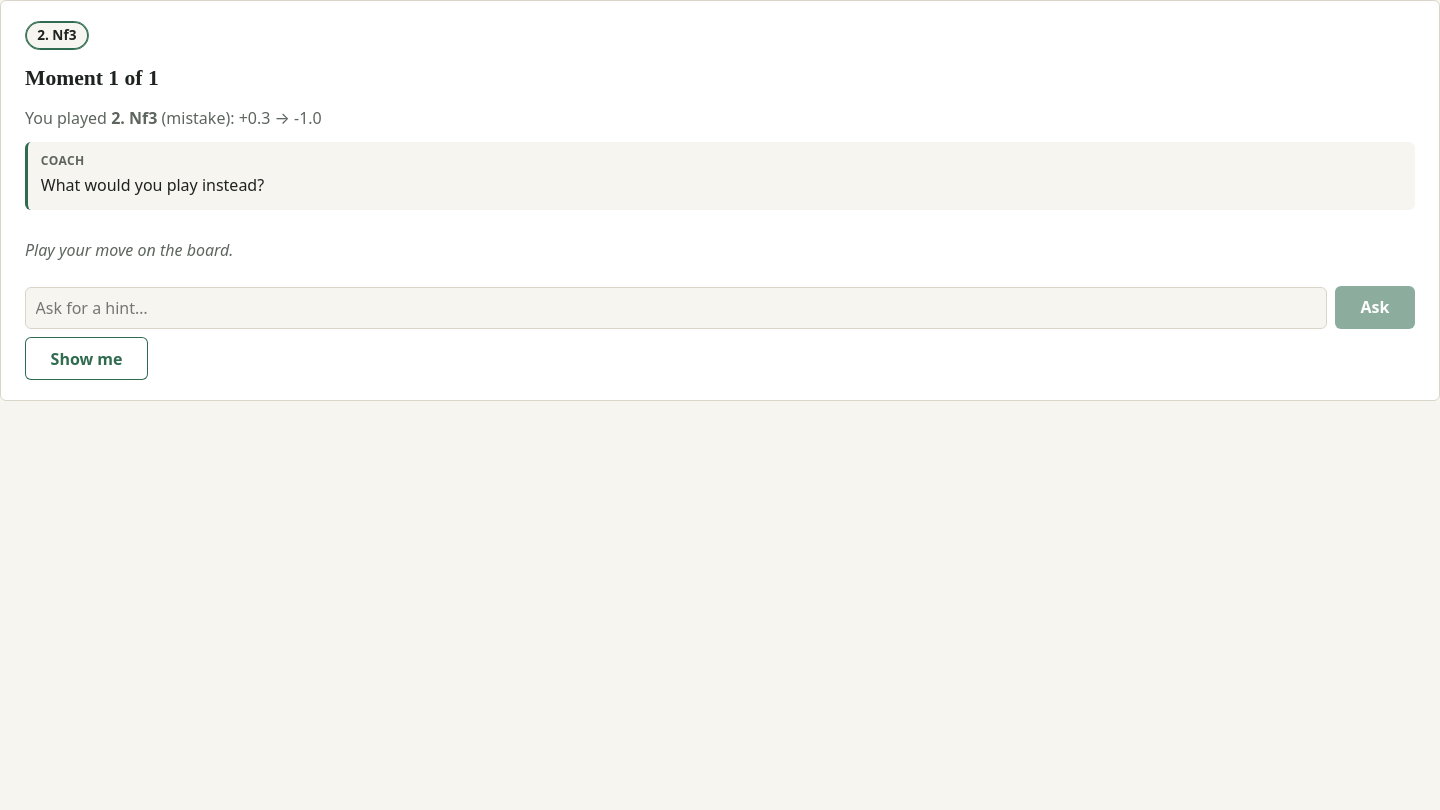
Test: a question goes to the moment and the server record replaces the pending messages
The image size is (1440, 810).
In the field named "Ask the coach about this moment": (676, 308) [25,287,1327,329], type "A hint?"
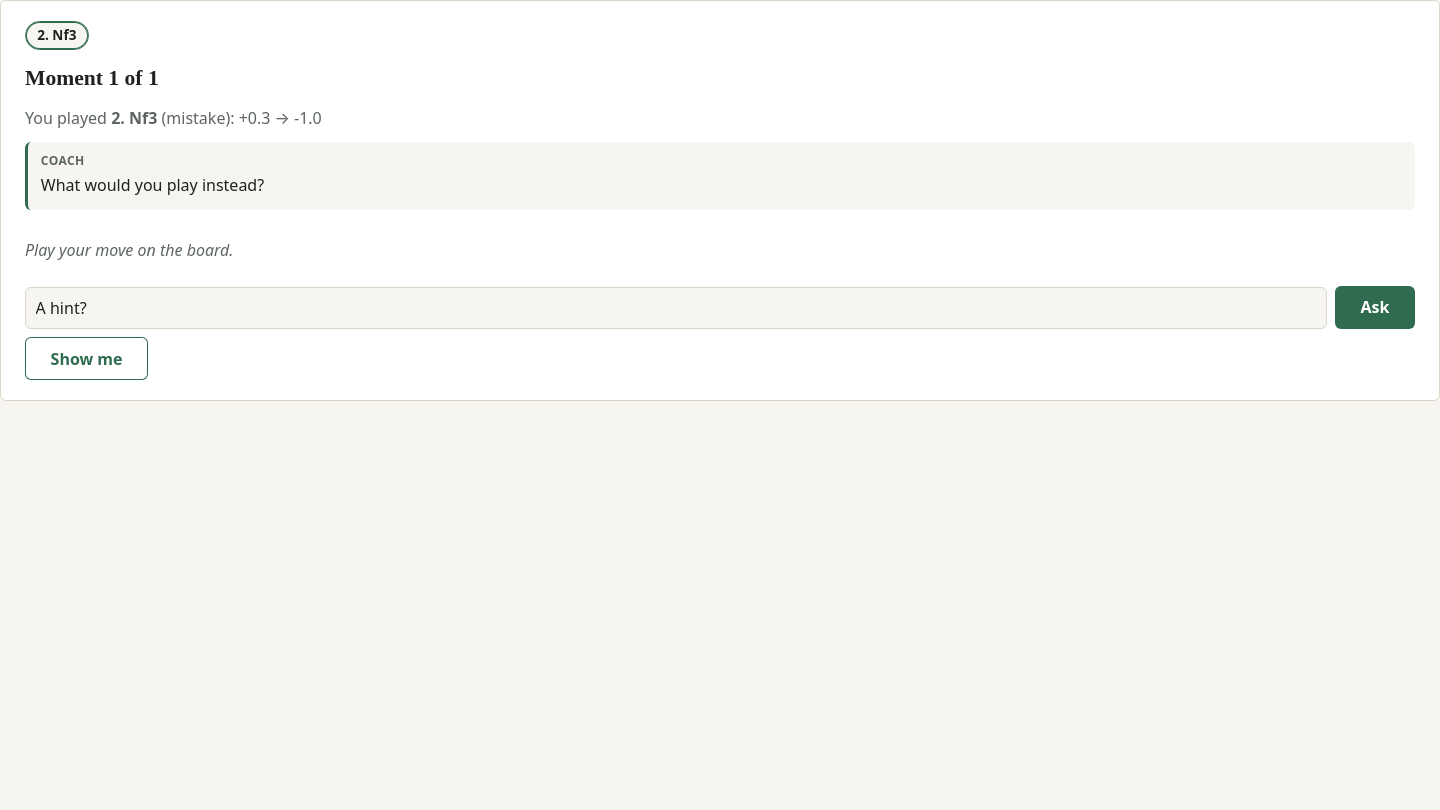
Click the button "Ask": (1375, 307) [1335,286,1415,329]
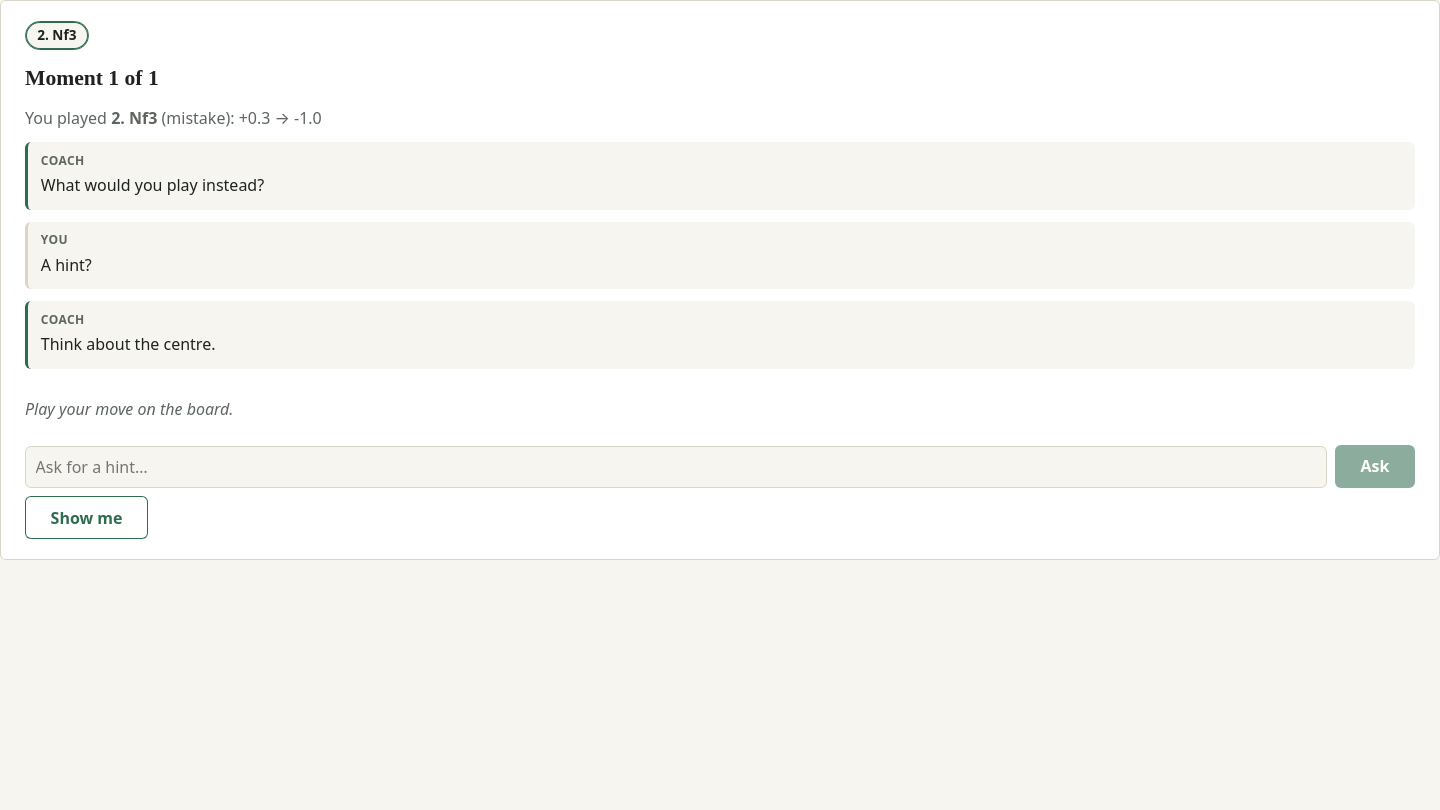
Result: the text "Think about the centre." is shown at [41,333,215,355]
